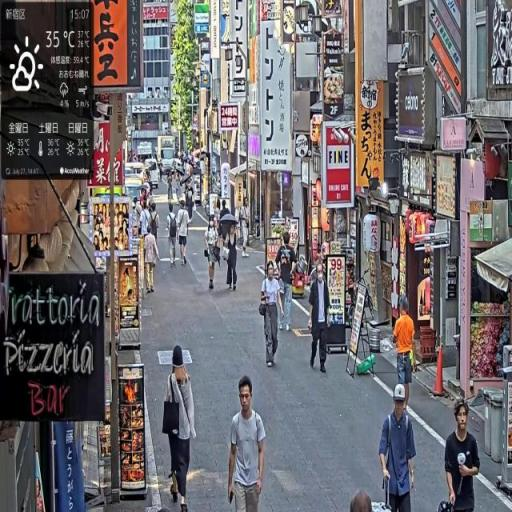person: (162, 343, 199, 512), (227, 374, 268, 512), (377, 382, 418, 512), (443, 399, 482, 512), (392, 299, 418, 417), (308, 258, 333, 375), (260, 261, 284, 368), (206, 213, 223, 292), (225, 220, 240, 294), (176, 198, 191, 268), (240, 199, 252, 257)
